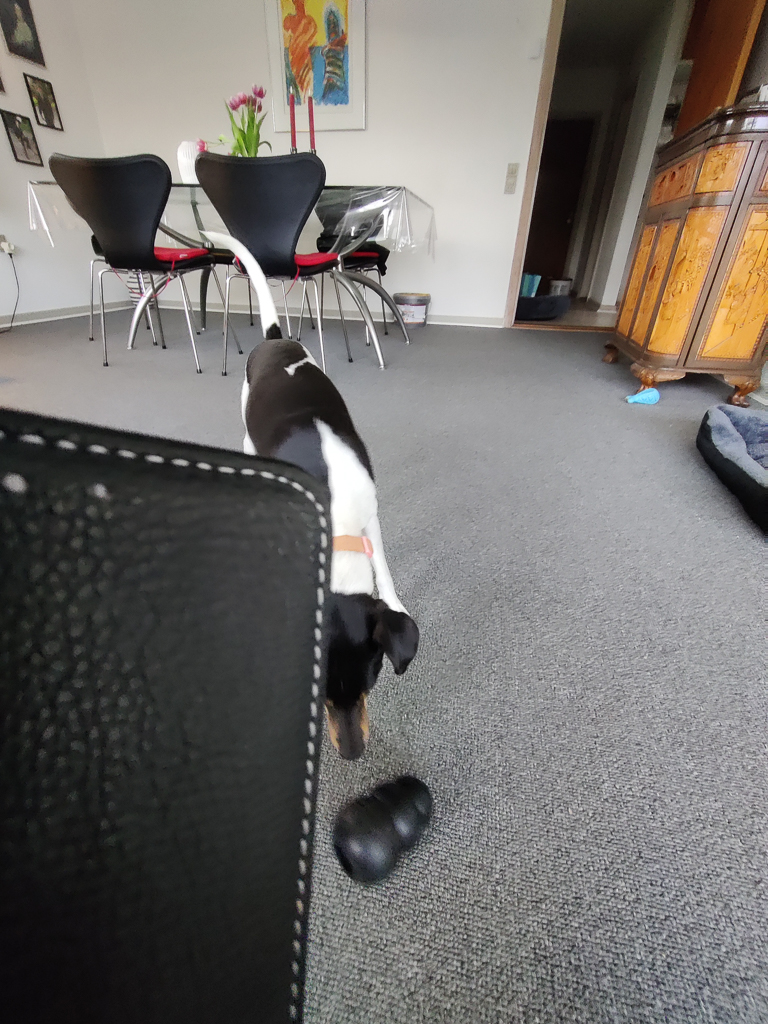Dog: (180, 205, 448, 789)
